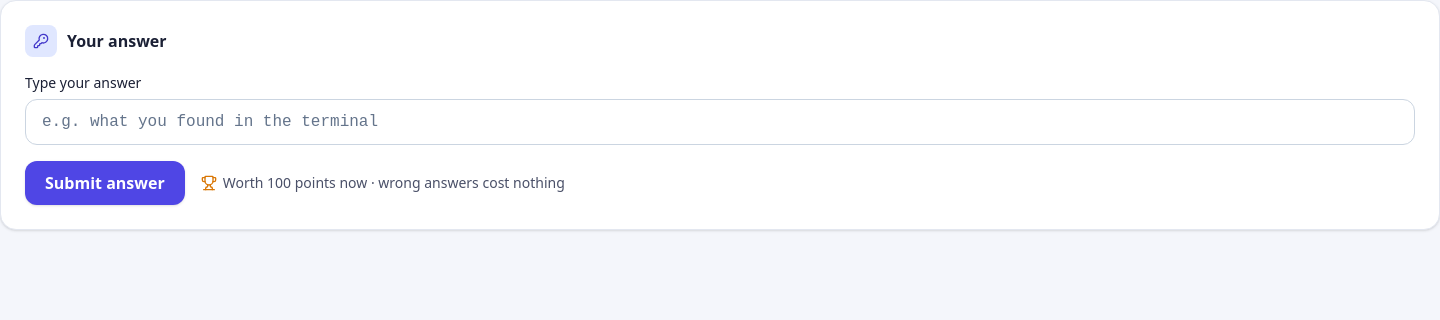
AnswerPanel › shows server errors
The image size is (1440, 320).
In the field labelled "Type your answer": [720, 122] box [25,99,1415,145], type "x"
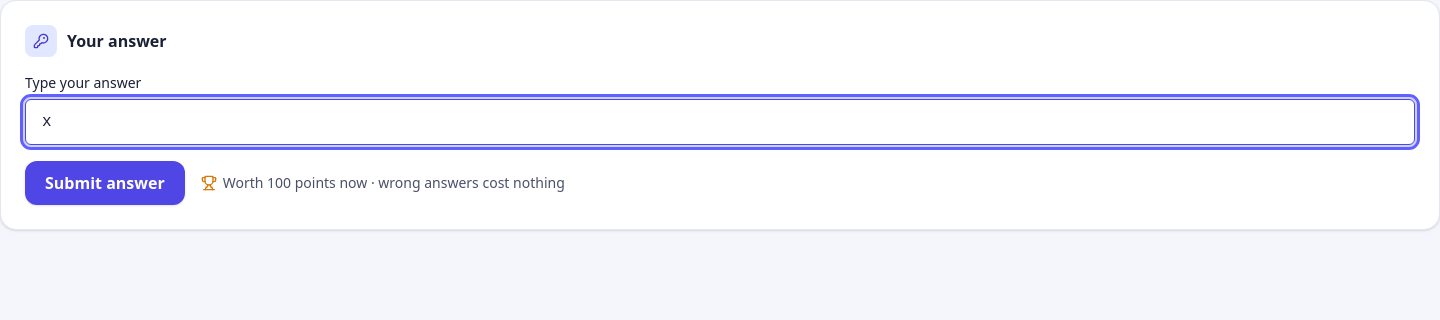
Click the button "Submit answer": [105, 183] box [25,161,185,205]
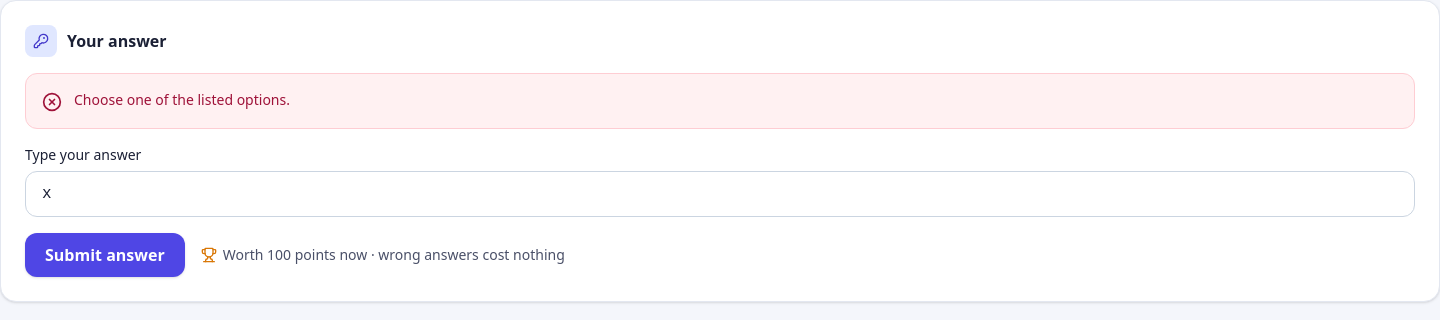
Result: the text "Choose one of the listed options." is shown at [74,90,290,110]
